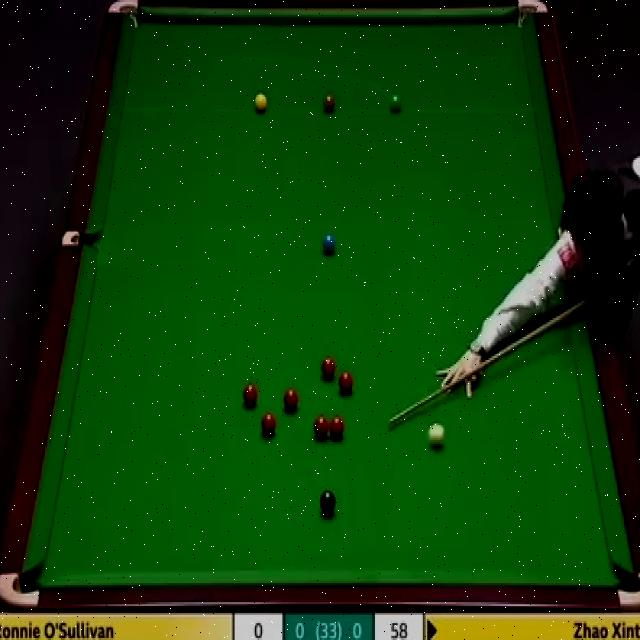black-ball: (319, 491, 336, 517)
blue-ball: (321, 233, 337, 257)
brown-ball: (323, 94, 336, 114)
green-ball: (391, 92, 403, 112)
red-ball: (318, 355, 338, 382), (282, 384, 300, 412), (336, 371, 357, 395), (260, 411, 278, 438), (330, 415, 346, 441), (242, 382, 258, 407), (313, 415, 329, 440)
white-ball: (428, 422, 444, 448)
yellow-ball: (254, 91, 266, 114)
